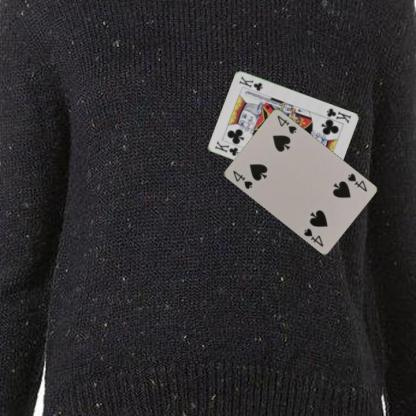4s: (230, 168, 254, 191), (345, 170, 368, 193)
Kc: (323, 106, 352, 125), (212, 138, 240, 157)
